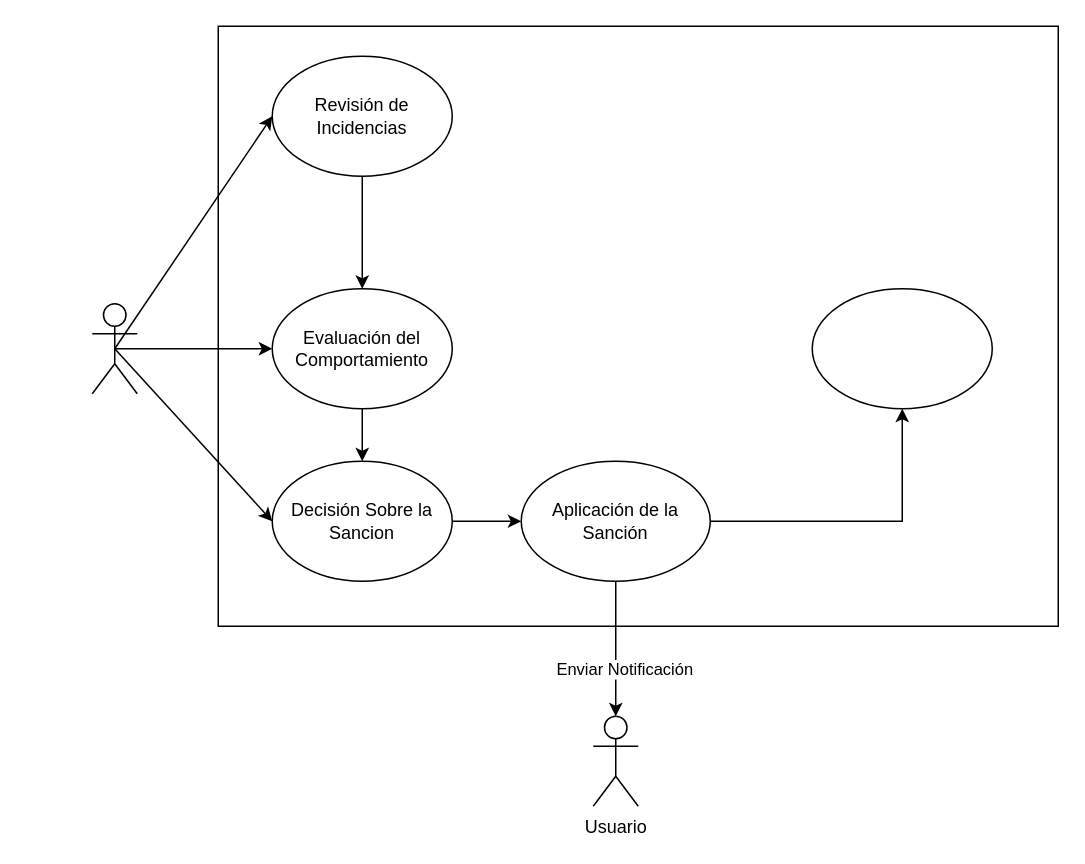
Some shapes in this 1085 by 864 pixel diagram are drawn without their labels. The shapes that lost their labels are listed below. From the top down, each one's centre as x and y in pixels, then its label:
the point at 114,348: Usuario Administrador
the point at 901,348: Documentar y Registrar Sanción
